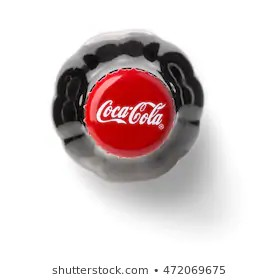coke-glass-bottle: (51, 26, 209, 185)
